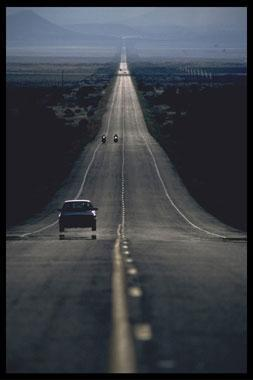car: (53, 194, 104, 241)
